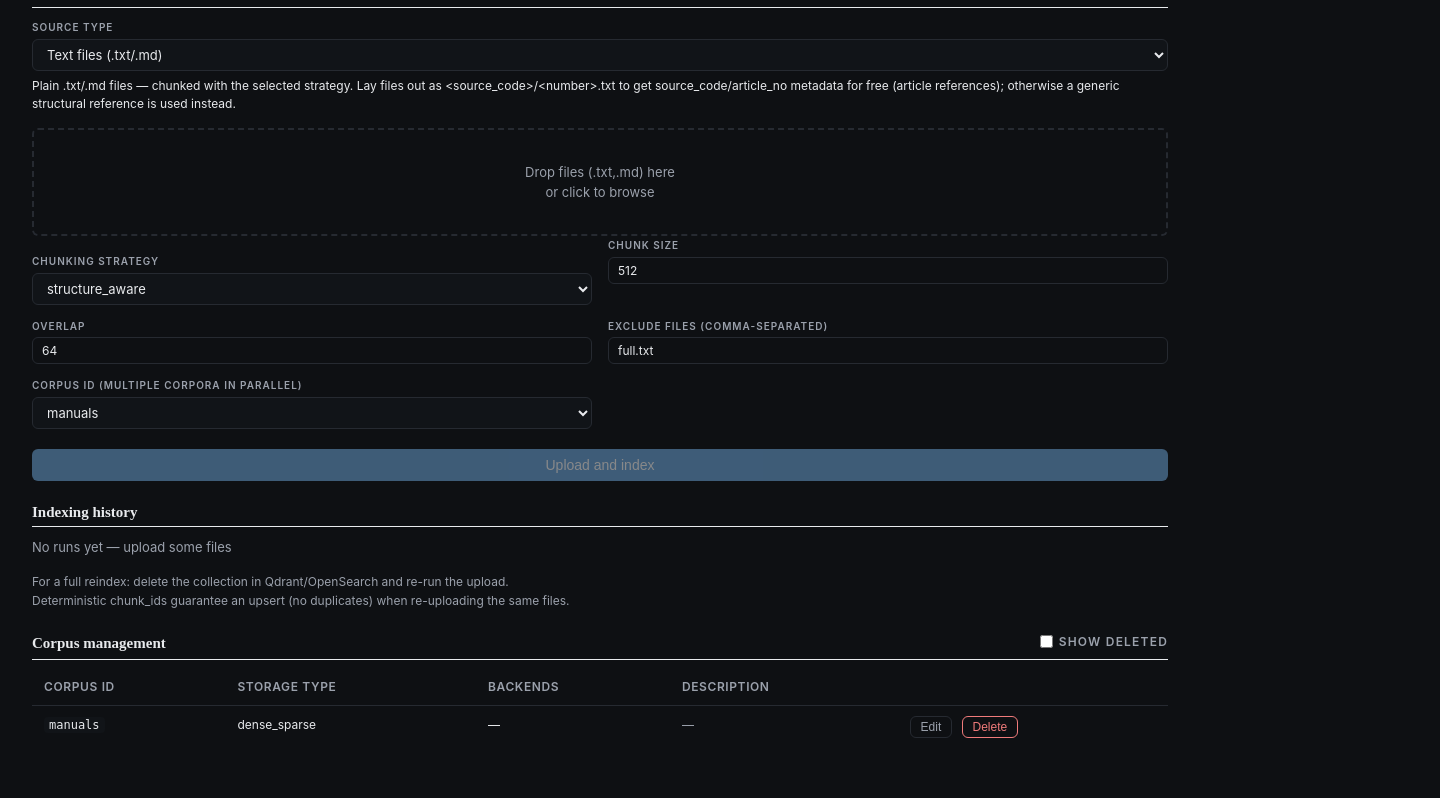
Test: CorpusPage corpus management › soft-deletes a corpus after confirmation
(page scrolled)
Click the button "Delete": (990, 727) top-left (962, 716), bottom-right (1018, 738)
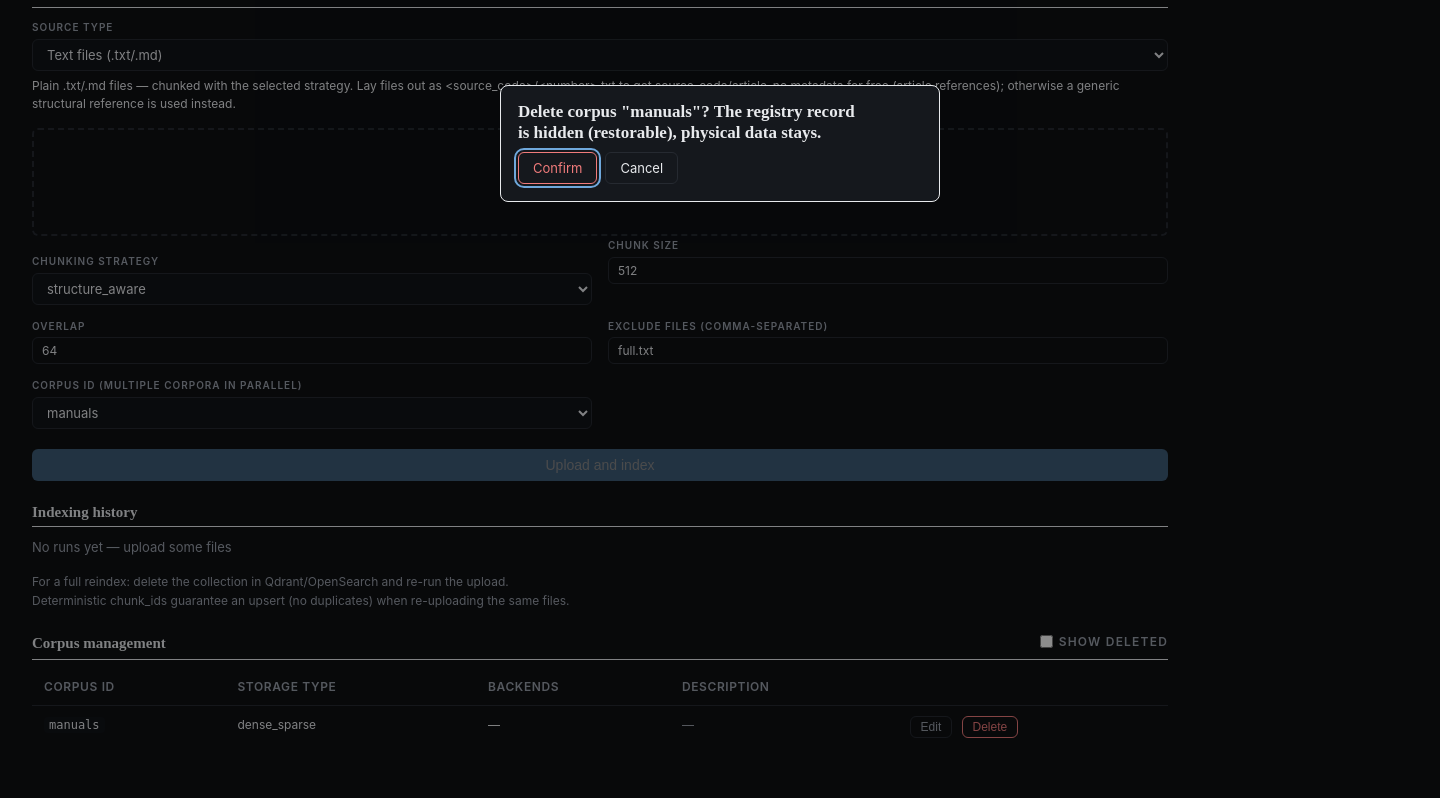
Click the button "Confirm": (558, 168) top-left (518, 152), bottom-right (597, 184)
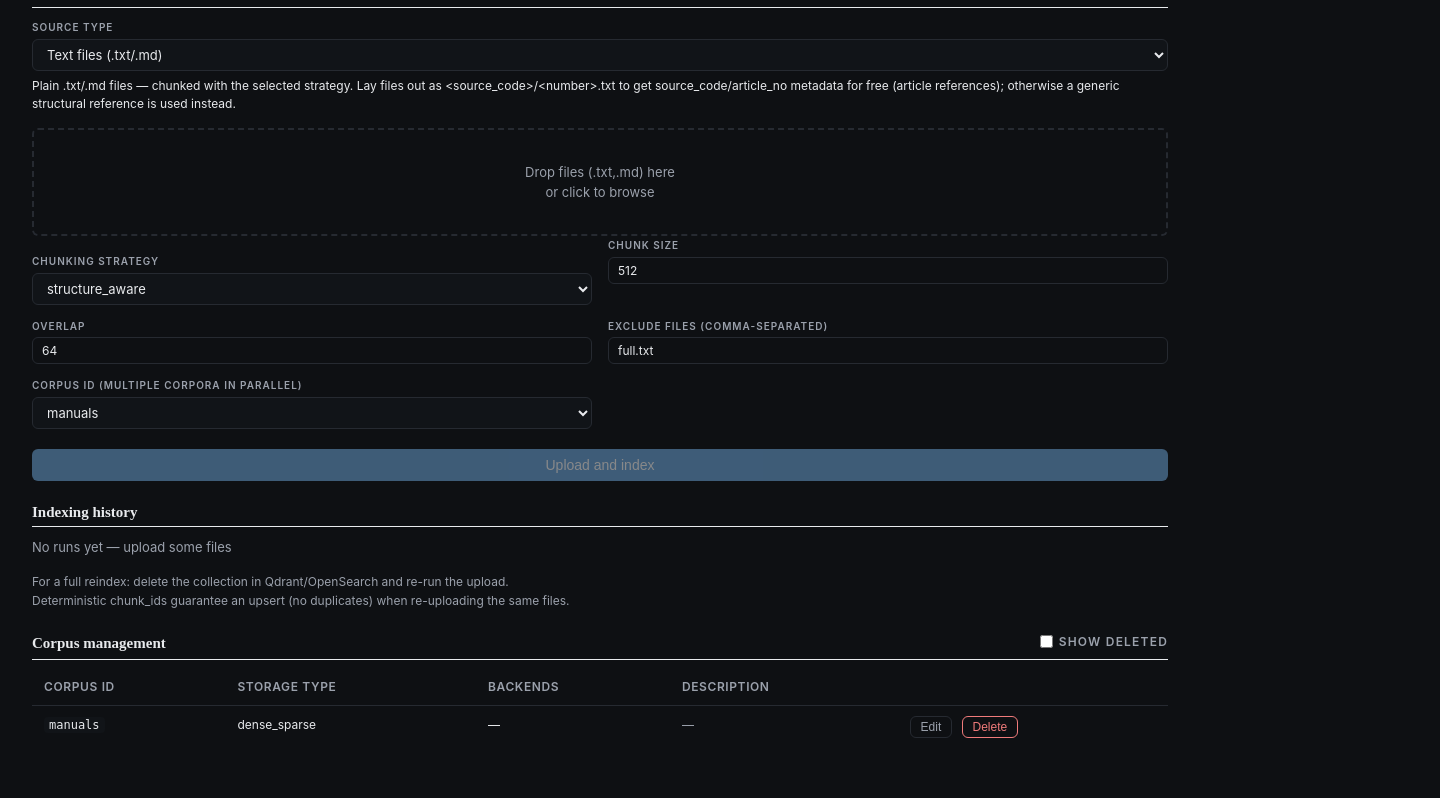
Result: the dialog is gone
